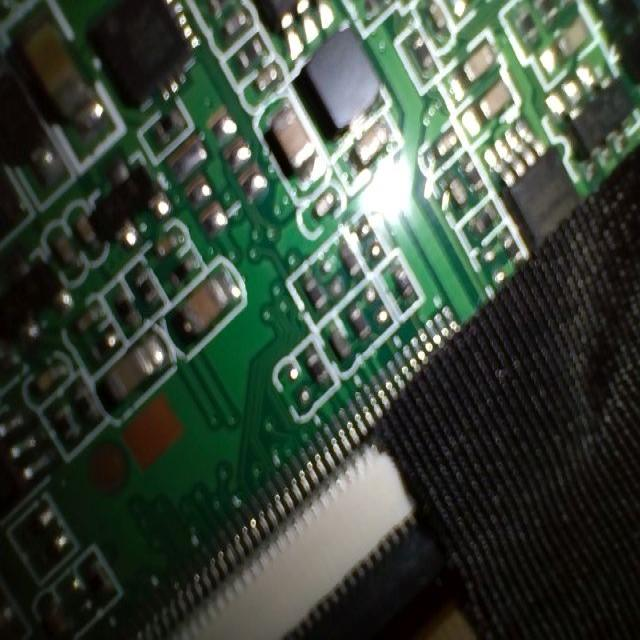capacitor: (262, 116, 316, 179), (107, 346, 158, 406), (187, 278, 234, 342), (551, 8, 593, 58), (477, 84, 512, 119), (464, 31, 493, 69)
resistor: (222, 36, 270, 79), (132, 266, 168, 317), (297, 271, 331, 314), (306, 358, 342, 391)
